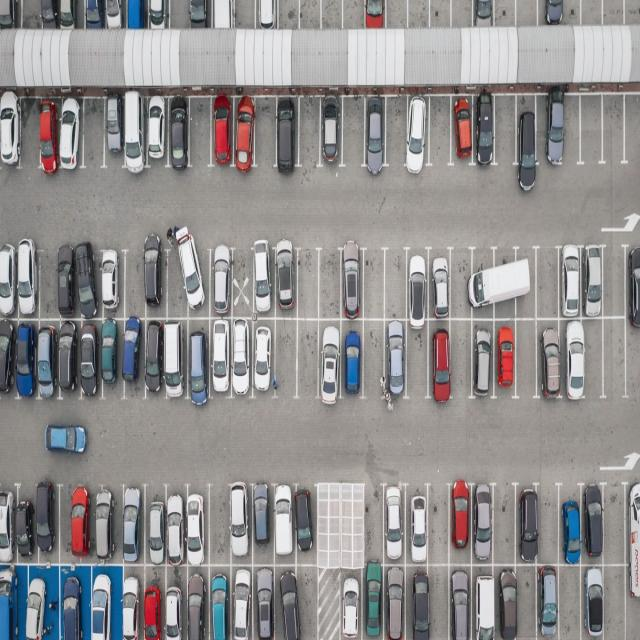space-empty: (602, 318, 630, 394), (447, 319, 473, 398), (360, 320, 386, 399), (292, 320, 319, 396), (272, 317, 298, 395), (318, 567, 346, 639), (405, 321, 431, 398), (516, 318, 542, 395), (207, 487, 232, 566), (557, 563, 583, 638), (492, 487, 517, 565), (254, 93, 280, 168), (600, 246, 626, 320), (292, 564, 318, 638), (426, 486, 450, 566), (492, 94, 518, 167), (297, 97, 324, 167), (341, 95, 367, 167), (188, 97, 214, 169), (537, 488, 561, 566), (424, 564, 449, 638), (228, 244, 253, 318), (534, 249, 560, 320), (82, 98, 108, 169), (361, 488, 384, 568), (316, 251, 342, 321), (426, 97, 452, 167), (448, 250, 474, 320), (604, 563, 628, 638), (293, 251, 319, 320), (603, 95, 628, 166), (603, 486, 625, 566), (583, 318, 605, 398), (516, 566, 540, 639), (580, 93, 604, 165), (381, 252, 406, 321), (384, 97, 408, 168), (360, 252, 385, 320), (20, 99, 43, 172), (166, 243, 188, 317), (125, 248, 148, 318), (562, 94, 582, 169), (318, 492, 338, 566), (38, 248, 59, 316), (58, 484, 74, 561), (625, 319, 640, 396), (624, 95, 640, 165), (342, 0, 366, 30), (321, 0, 345, 30), (298, 0, 322, 30), (384, 0, 408, 29), (407, 0, 431, 29), (450, 0, 474, 28), (276, 0, 299, 29), (21, 0, 43, 30), (169, 0, 191, 30), (233, 0, 256, 28), (430, 0, 453, 28), (515, 0, 538, 27), (601, 0, 624, 25), (493, 0, 515, 26), (581, 0, 603, 25), (624, 0, 640, 24)
space-occupied: (559, 317, 596, 397), (18, 564, 54, 640), (86, 566, 118, 640), (65, 482, 93, 561), (58, 567, 88, 640), (186, 318, 213, 399), (33, 566, 62, 640), (537, 320, 564, 399), (230, 485, 256, 567), (184, 242, 212, 318), (251, 318, 278, 396), (226, 318, 253, 396), (446, 483, 472, 563), (161, 318, 187, 398), (30, 479, 56, 559), (471, 564, 499, 638), (122, 318, 148, 397), (380, 319, 406, 398), (92, 483, 118, 562), (404, 97, 432, 170), (208, 244, 235, 319), (226, 563, 253, 638), (491, 246, 519, 318), (380, 484, 405, 564), (208, 318, 233, 398), (317, 316, 342, 396), (75, 247, 102, 321), (428, 320, 453, 399), (405, 484, 430, 563), (142, 96, 169, 169), (404, 250, 432, 320), (448, 564, 474, 639), (492, 320, 517, 398), (140, 564, 166, 639), (208, 96, 234, 170), (122, 96, 148, 170), (206, 564, 232, 638), (542, 94, 568, 168), (161, 567, 187, 640), (472, 486, 496, 565), (340, 318, 364, 397), (250, 484, 274, 563), (514, 485, 538, 564), (338, 250, 365, 320), (449, 96, 476, 166), (536, 563, 561, 638), (121, 564, 146, 639), (185, 489, 210, 564), (272, 245, 298, 317), (472, 317, 496, 395), (363, 97, 389, 169), (558, 245, 584, 317), (122, 486, 146, 564), (472, 246, 498, 318), (511, 247, 537, 319), (254, 243, 279, 317), (340, 569, 366, 640), (167, 98, 192, 171), (578, 562, 602, 638), (317, 97, 343, 167), (232, 97, 257, 169), (560, 489, 584, 564), (59, 98, 84, 170), (380, 563, 404, 638), (274, 563, 298, 638), (102, 249, 128, 318), (14, 245, 38, 319), (254, 564, 278, 638), (184, 564, 208, 638), (405, 564, 429, 638), (274, 97, 299, 168), (578, 246, 603, 317), (426, 251, 452, 319), (101, 316, 123, 396), (273, 485, 296, 561), (58, 320, 80, 399), (79, 320, 101, 399), (164, 489, 187, 564), (35, 320, 57, 398), (143, 486, 165, 564), (144, 319, 166, 397), (14, 319, 36, 397), (292, 491, 315, 565), (38, 98, 61, 172), (474, 94, 497, 167), (494, 567, 517, 640), (516, 96, 539, 169), (581, 489, 602, 566), (144, 246, 167, 316), (104, 98, 127, 168), (360, 567, 382, 640), (1, 95, 22, 168), (0, 565, 18, 640), (17, 484, 35, 559), (0, 487, 17, 566), (0, 243, 18, 317), (58, 247, 77, 317), (625, 482, 640, 563), (625, 561, 640, 637), (0, 320, 14, 398), (540, 0, 579, 25), (627, 246, 640, 320), (256, 0, 282, 29), (56, 0, 81, 29), (84, 0, 108, 30), (147, 0, 171, 29), (362, 0, 386, 29), (188, 0, 212, 29), (125, 0, 148, 30), (210, 0, 233, 29), (104, 0, 125, 30), (473, 0, 497, 26), (0, 0, 20, 30), (39, 0, 57, 29)
